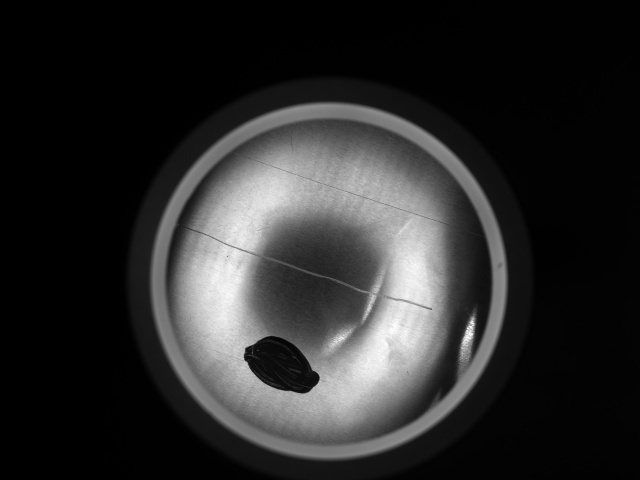ca_shang: (178, 222, 436, 311), (229, 150, 478, 237)
zang_wu: (241, 332, 323, 395)
